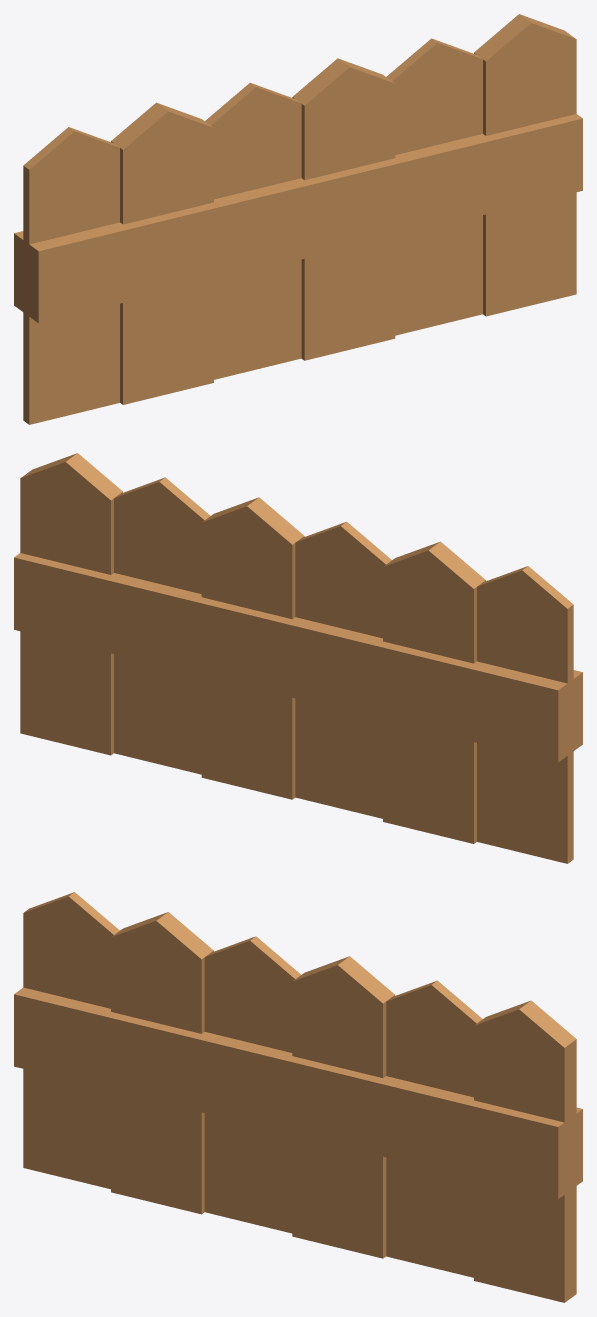
File: fence.fbx
The picture shows the model from 3 angles, top to bottom: view 1: azimuth 30°, elevation 25°; view 2: azimuth 150°, elevation 25°; view 3: azimuth 330°, elevation 25°; orthographic projection.
Parts seen in each view (by area): view 1: fence; view 2: fence; view 3: fence.
Part boxes in pixels (x1,y1,x2,y2): fence: (14,14,582,424); fence: (14,453,582,863); fence: (14,892,582,1302).
Bounding box in the file's own units: 10 × 4.96 × 0.7872.
